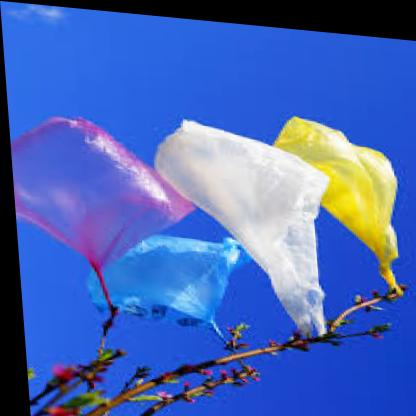Plastic: (174, 87, 336, 318), (276, 87, 416, 291), (15, 96, 178, 262), (82, 226, 258, 339)
